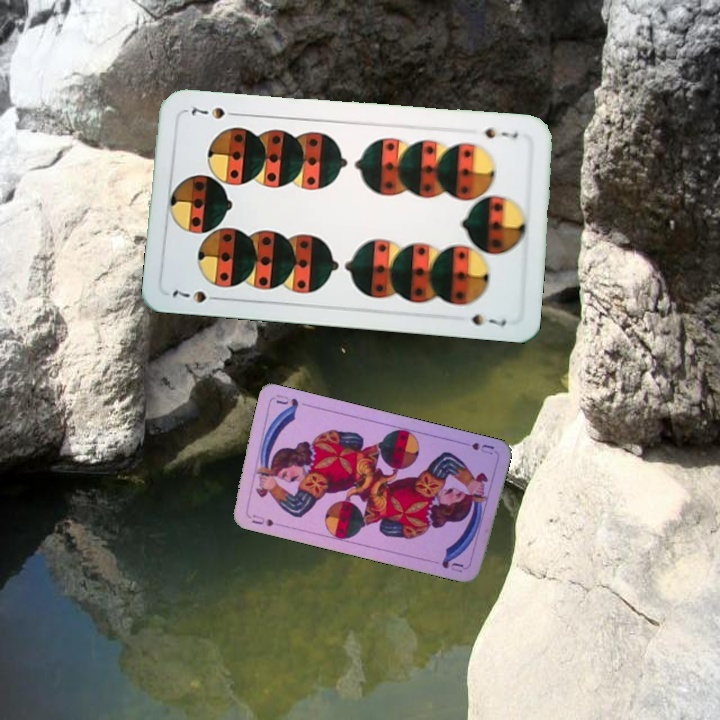S7: (168, 286, 225, 305), (481, 124, 521, 142)
SU: (456, 438, 497, 457), (247, 510, 276, 529)
